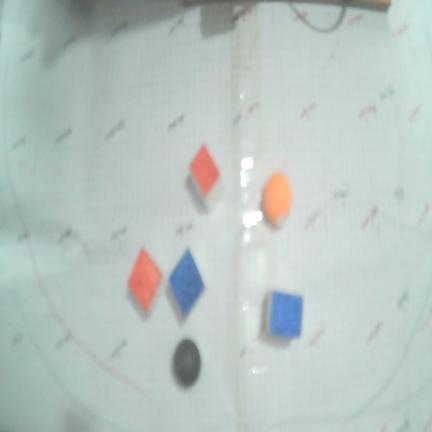circle_blue: (173, 340, 201, 389)
circle_orange: (263, 173, 292, 224)
rectangle_blue: (269, 290, 301, 337)
rectangle_orange: (188, 145, 218, 196)
square_blue: (169, 250, 205, 317)
square_orange: (128, 249, 162, 313)
